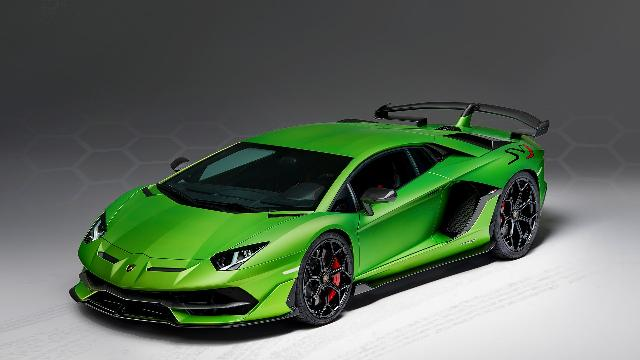lamborghini: (68, 102, 550, 332)
